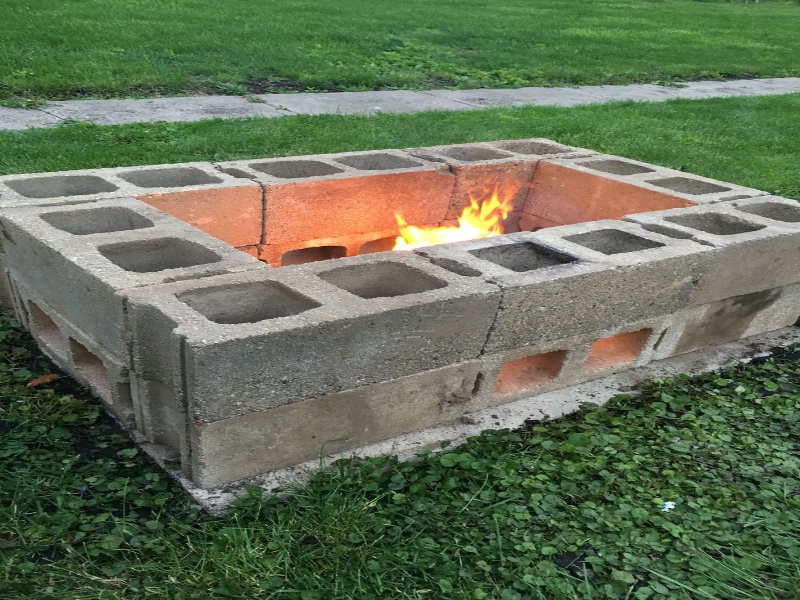fire: (380, 188, 516, 245)
